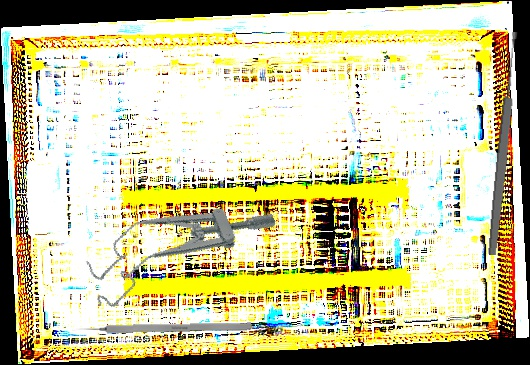Hook Surgical: (71, 322, 252, 334)
Speculum: (74, 174, 283, 312)
Surgical Spoon: (485, 31, 523, 256)
